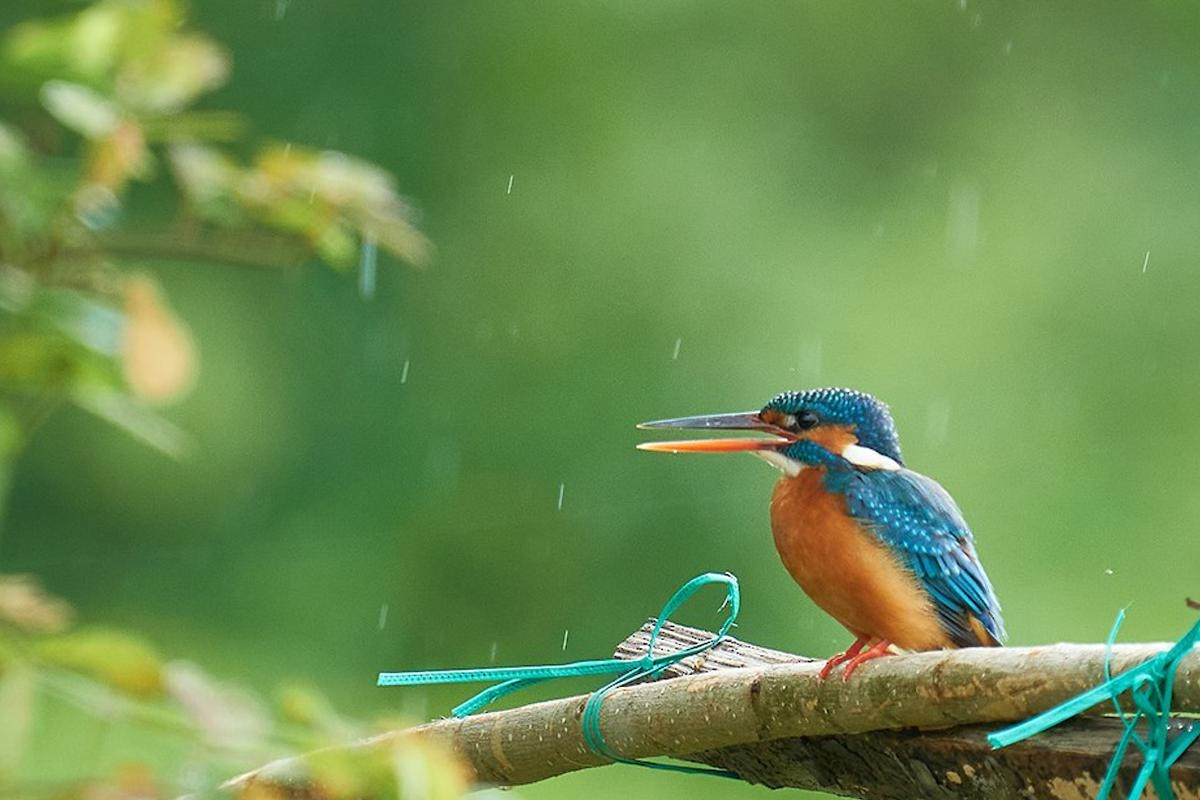kingfisher: (610, 383, 1002, 660)
